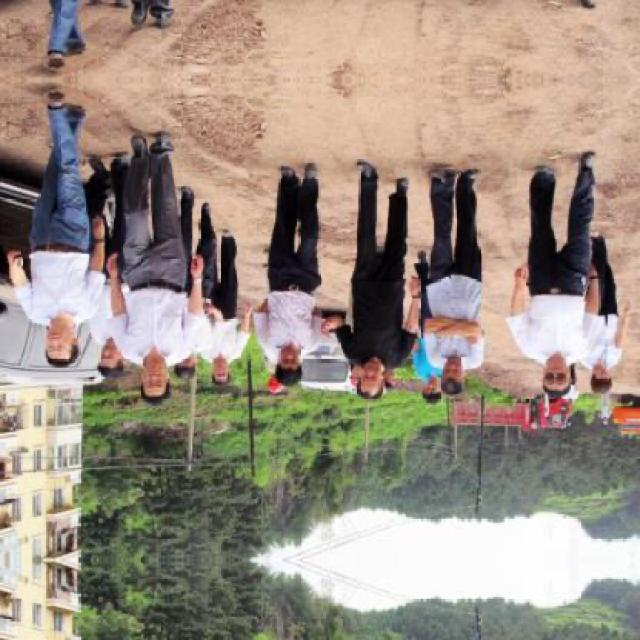sin casco: (262, 336, 313, 401), (524, 348, 584, 393), (41, 320, 79, 370), (343, 364, 384, 410), (208, 344, 246, 390), (139, 372, 175, 410), (89, 346, 126, 382), (428, 360, 467, 393)
